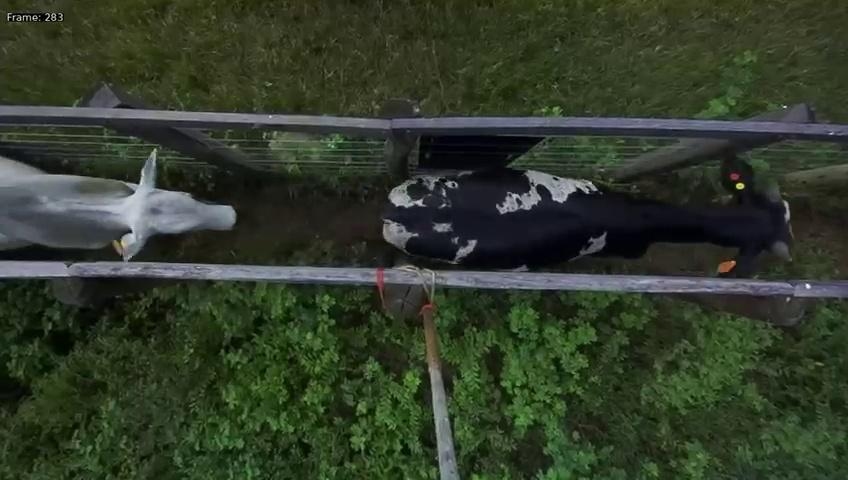cattle: (367, 154, 808, 276)
